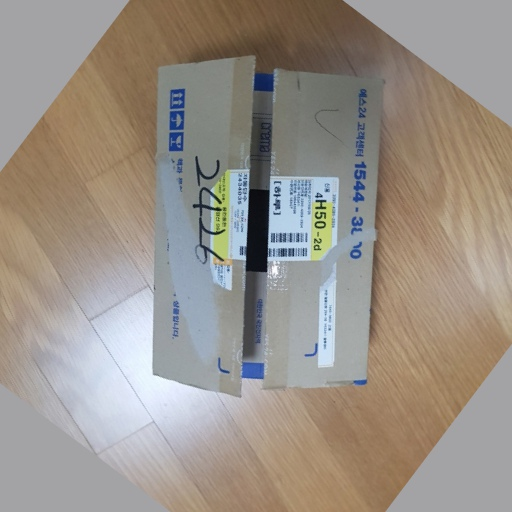Paper_0: (146, 45, 391, 399)
